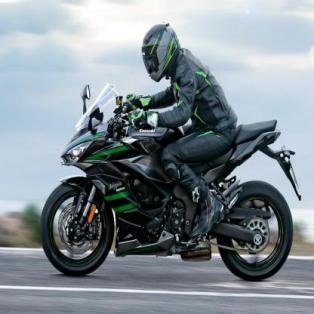Motocicleta: (37, 84, 303, 286)
